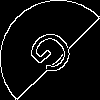G: (25, 25, 85, 86)
